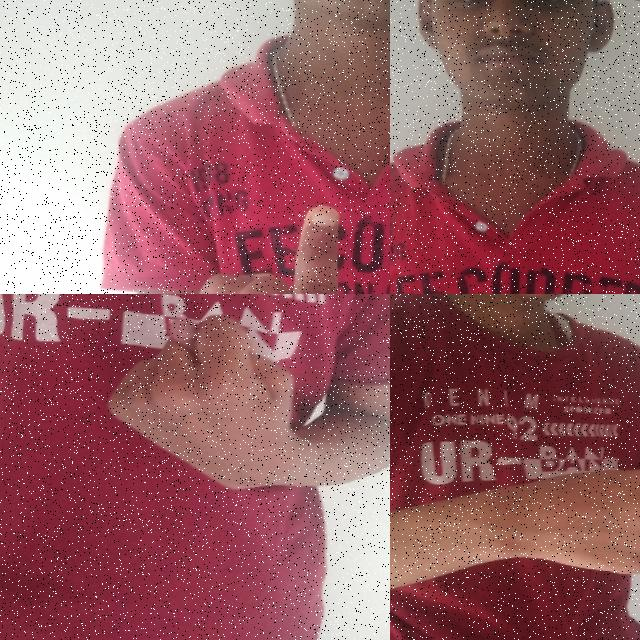Dulya: (96, 305, 318, 506)
Five Fathers: (474, 434, 640, 596)
Middle Finger: (175, 193, 390, 294)
